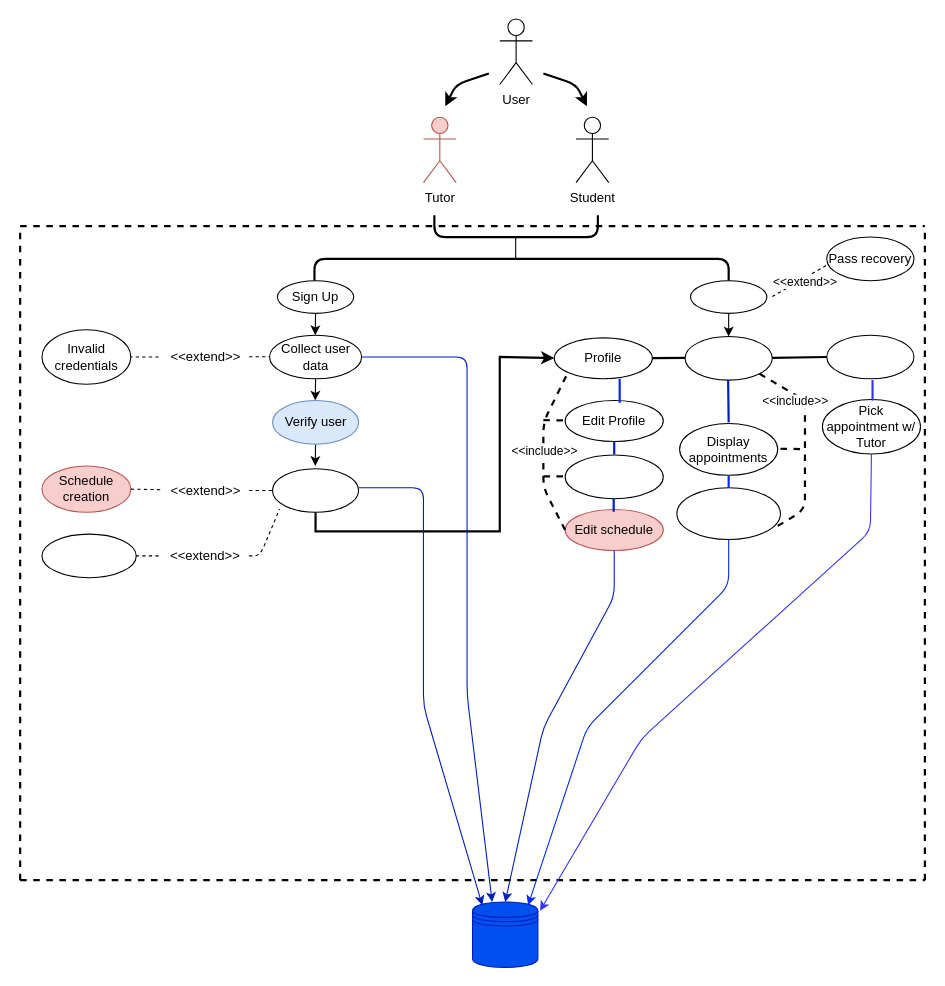
The diagram is 945 pixels wide and 986 high, and some of its shapes have lost their labels. Here are the shapes that lost their labels. From the top down, the centre of each, then its label:
At (x=728, y=296): "Login".
At (x=728, y=357): "Homepage".
At (x=870, y=356): "Search".
At (x=315, y=490): "Profile creation".
At (x=613, y=476): "Edit courses".
At (x=728, y=513): "Cancel appointments".
At (x=88, y=555): "Exceeded course limit".
